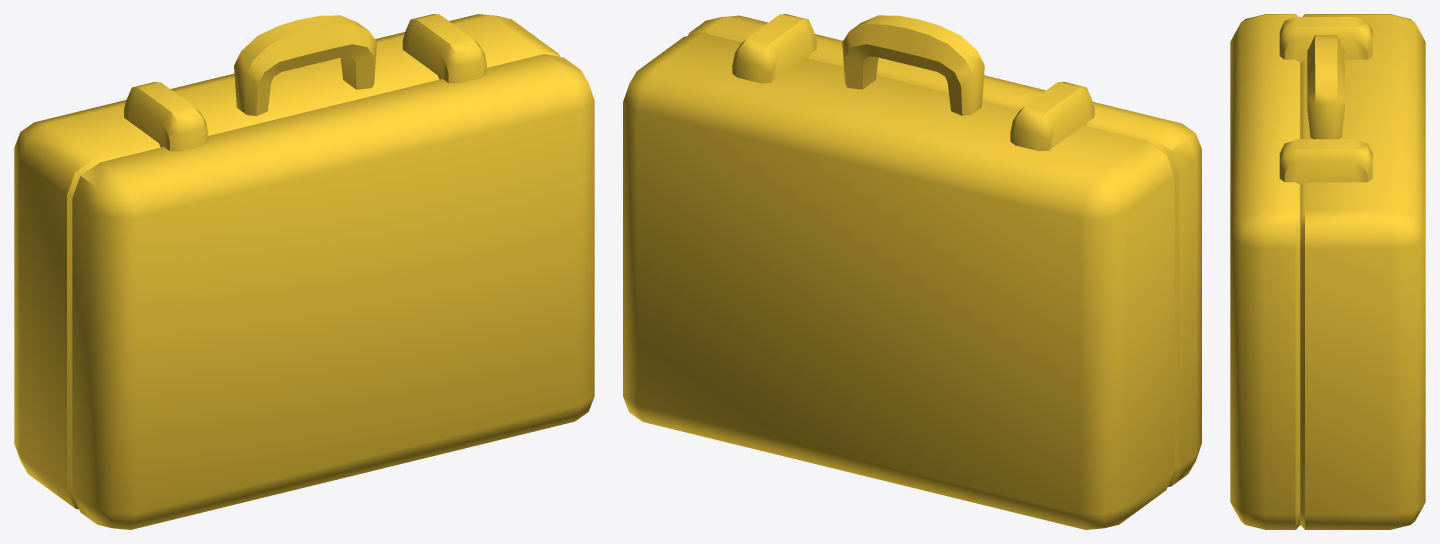
The model's file is Case.dae.
3 renders of one model, left to right at view 1: azimuth 30°, elevation 25°; view 2: azimuth 150°, elevation 25°; view 3: azimuth 270°, elevation 25°, orthographic. The views are drawn at different scales.
Parts seen in each view (by area): view 1: Case; view 2: Case; view 3: Case.
Boxes of the visible parts, <box> form: Case: <box>14,14,594,529</box>; Case: <box>623,14,1201,529</box>; Case: <box>1230,14,1425,529</box>.
Bounding box in the file's own units: 0.5385 × 0.2018 × 0.4378.
